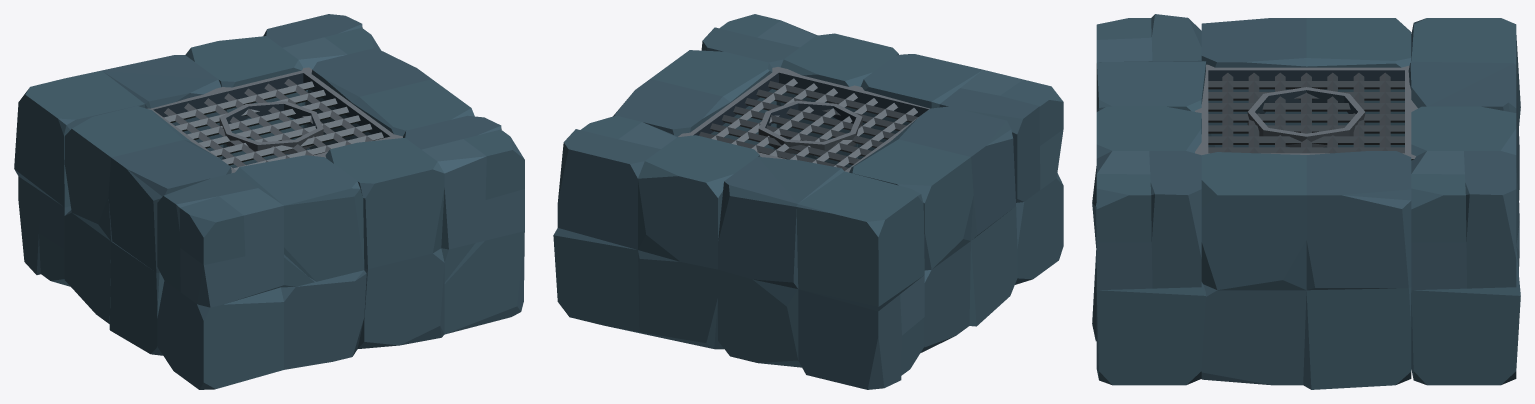
File: platform_floor_04_grate.fbx
3 views of the same model, side by side, from view 1: azimuth 30°, elevation 25°; view 2: azimuth 150°, elevation 25°; view 3: azimuth 270°, elevation 25° (orthographic). The views are drawn at different scales.
Visible parts, largest first — view 1: platform_floor_04_grate; view 2: platform_floor_04_grate; view 3: platform_floor_04_grate.
Boxes of the visible parts, <box> form: platform_floor_04_grate: <box>14,14,524,389</box>; platform_floor_04_grate: <box>553,14,1063,389</box>; platform_floor_04_grate: <box>1092,14,1520,389</box>.
Size of the model in its own units: 817 by 412 by 817.
